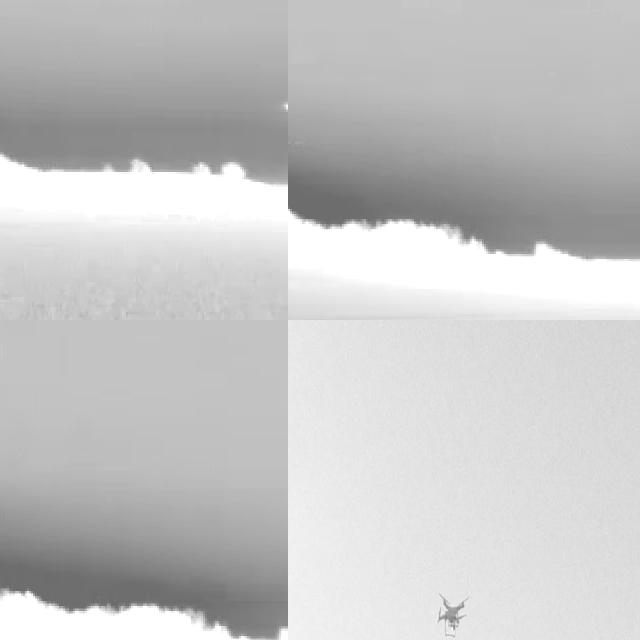0: (288, 131, 308, 161)
1: (272, 89, 288, 129)
drone: (432, 586, 470, 636)
